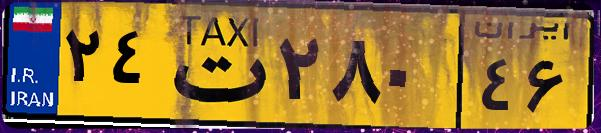0: (385, 28, 445, 110)
2: (270, 28, 330, 110), (57, 26, 110, 100)
4: (475, 38, 525, 113), (110, 28, 158, 98)
6: (525, 38, 570, 115)
8: (330, 28, 385, 110)
ت: (158, 12, 270, 120)
